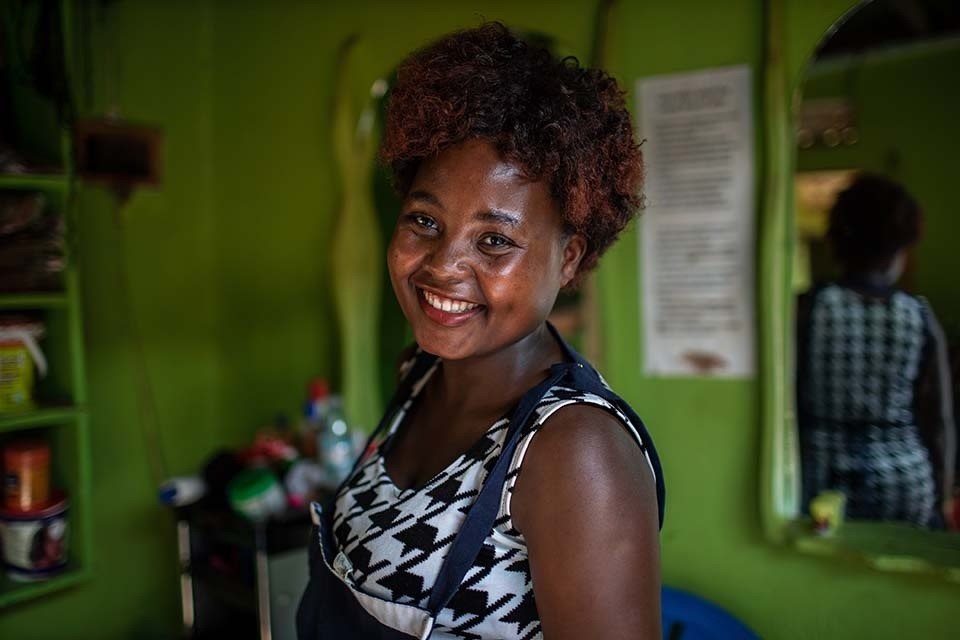face_no_mask: (388, 33, 639, 354)
